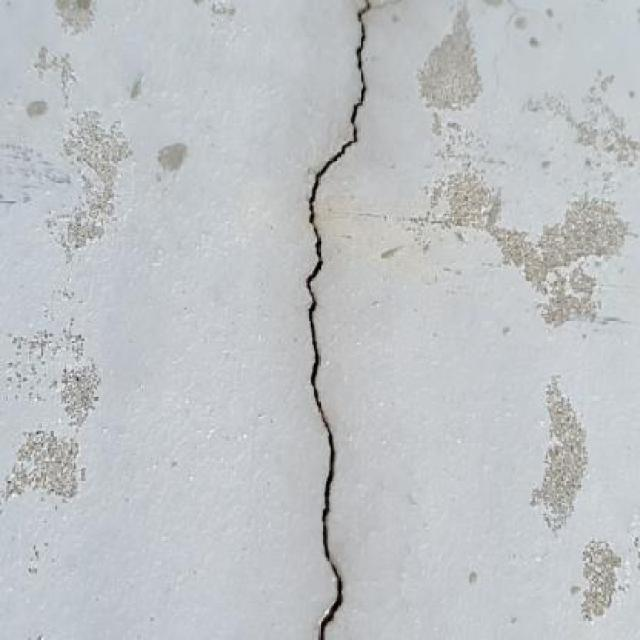vertical crack: (304, 0, 371, 640)
